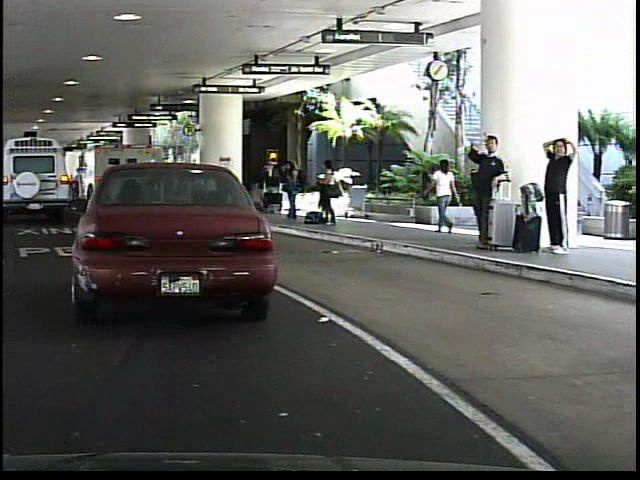person: (462, 131, 507, 251), (539, 126, 577, 254), (423, 154, 460, 235), (314, 157, 341, 226)
